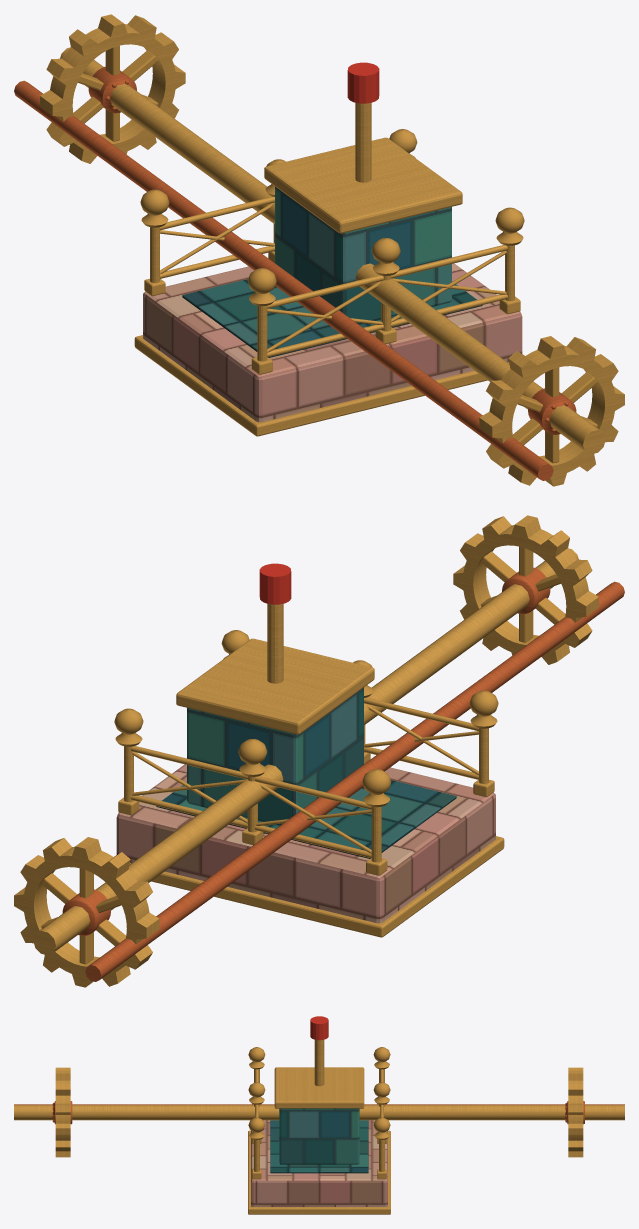
The model's file is act3_lock_beam_winch.glb.
3 views of the same model, one above another, from view 1: azimuth 30°, elevation 25°; view 2: azimuth 150°, elevation 25°; view 3: azimuth 270°, elevation 25° (orthographic). The views are drawn at different scales.
Parts seen in each view (by area): view 1: SM_Act3_LockBeam, ANIM_Act3_Gear1_Mesh, ANIM_Act3_Gear2_Mesh, ANIM_Act3_WinchLever_Mesh; view 2: SM_Act3_LockBeam, ANIM_Act3_Gear2_Mesh, ANIM_Act3_Gear1_Mesh, ANIM_Act3_WinchLever_Mesh; view 3: SM_Act3_LockBeam, ANIM_Act3_Gear1_Mesh, ANIM_Act3_Gear2_Mesh, ANIM_Act3_WinchLever_Mesh.
Part boxes in pixels (x1,y1,x2,y2): SM_Act3_LockBeam: [14, 47, 605, 480]; ANIM_Act3_Gear1_Mesh: [479, 336, 624, 486]; ANIM_Act3_Gear2_Mesh: [40, 14, 185, 163]; ANIM_Act3_WinchLever_Mesh: [347, 62, 379, 182]; SM_Act3_LockBeam: [33, 548, 624, 981]; ANIM_Act3_Gear2_Mesh: [14, 837, 159, 987]; ANIM_Act3_Gear1_Mesh: [453, 515, 598, 664]; ANIM_Act3_WinchLever_Mesh: [259, 563, 291, 683]; SM_Act3_LockBeam: [14, 1047, 624, 1214]; ANIM_Act3_Gear1_Mesh: [52, 1067, 72, 1157]; ANIM_Act3_Gear2_Mesh: [565, 1067, 584, 1157]; ANIM_Act3_WinchLever_Mesh: [310, 1016, 328, 1086].
Size of the model in its own units: 1.24 by 1.22 by 4.1.
Materials: 6 (5 with a texture image).
